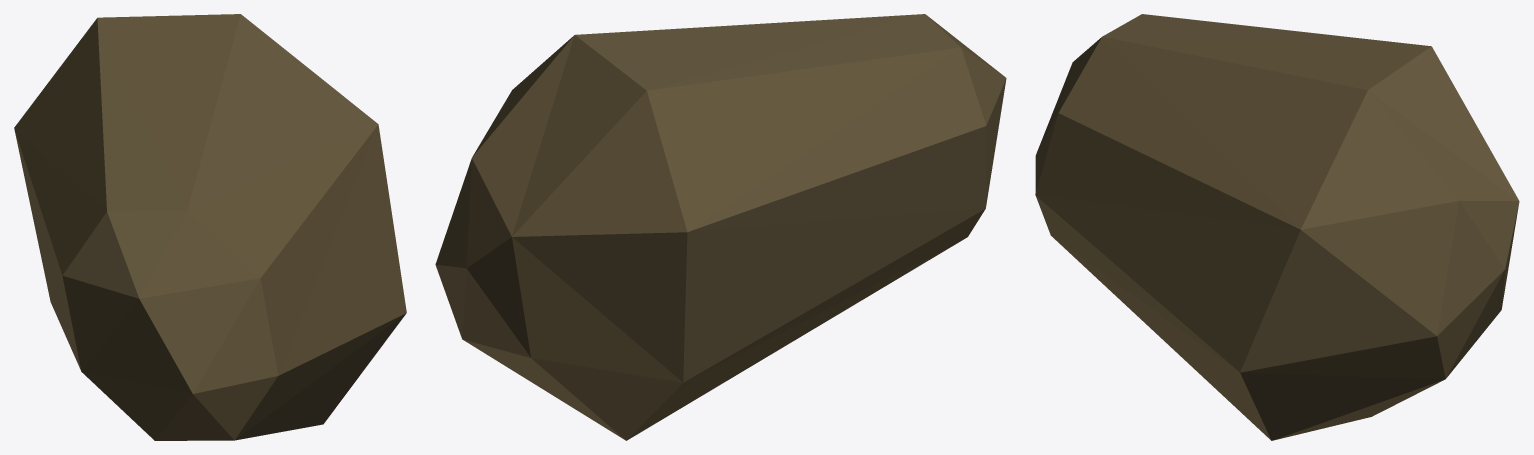
File: ant-trochanter-hind-left.dae
The picture shows the model from 3 angles, left to right: view 1: azimuth 30°, elevation 25°; view 2: azimuth 150°, elevation 25°; view 3: azimuth 270°, elevation 25°; orthographic projection. The views are drawn at different scales.
Parts seen in each view (by area): view 1: ant-femur-trochanter-hind-left; view 2: ant-femur-trochanter-hind-left; view 3: ant-femur-trochanter-hind-left.
Boxes of the visible parts, box(x1,y1,x2,y2) form: ant-femur-trochanter-hind-left: box(14, 14, 406, 440); ant-femur-trochanter-hind-left: box(435, 14, 1006, 440); ant-femur-trochanter-hind-left: box(1035, 14, 1519, 440).
Size of the model in its own units: 1.22 by 1.45 by 1.15.
